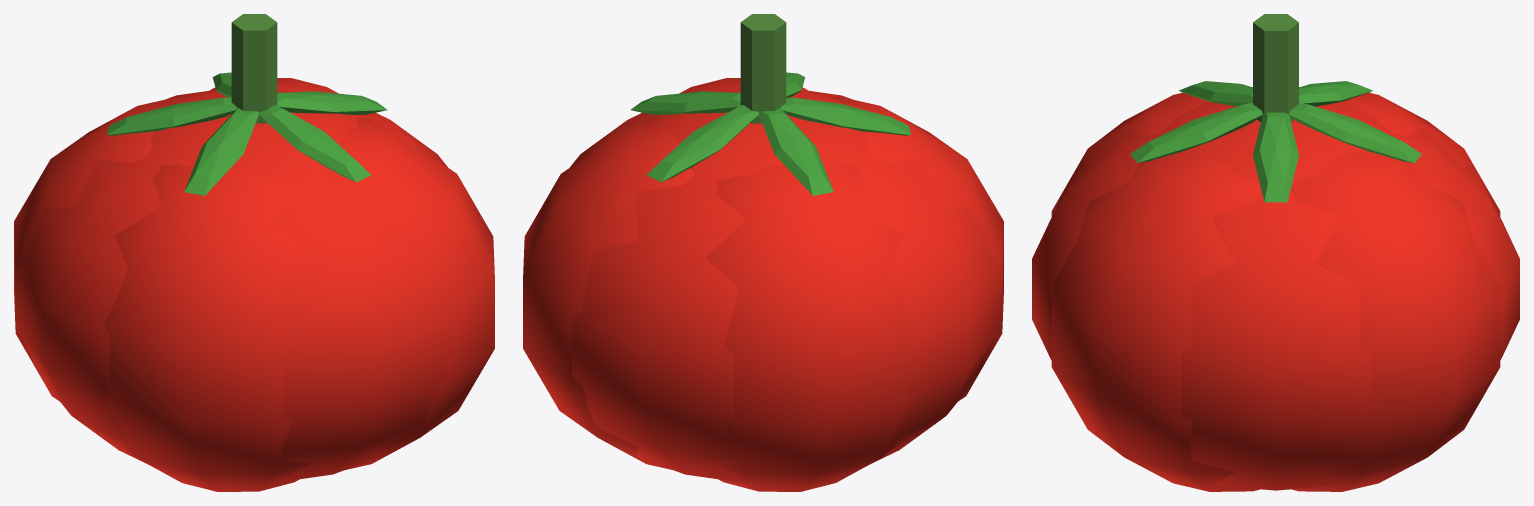
The model's file is Fruto_Tomato.fbx.
The picture shows the model from 3 angles, left to right: view 1: azimuth 30°, elevation 25°; view 2: azimuth 150°, elevation 25°; view 3: azimuth 270°, elevation 25°; orthographic projection.
Visible parts, largest first — view 1: Produto_Tomato, Cabo_Tomato; view 2: Produto_Tomato, Cabo_Tomato; view 3: Produto_Tomato, Cabo_Tomato.
Part boxes in pixels (box(x1,y1,x2,y2)): Produto_Tomato: box(14, 78, 494, 491); Cabo_Tomato: box(107, 14, 387, 195); Produto_Tomato: box(523, 78, 1003, 491); Cabo_Tomato: box(630, 14, 910, 195); Produto_Tomato: box(1032, 87, 1519, 491); Cabo_Tomato: box(1130, 14, 1421, 202).
Bounding box in the file's own units: 0.7386 × 0.738 × 0.7386.
1 material, 1 textured.
